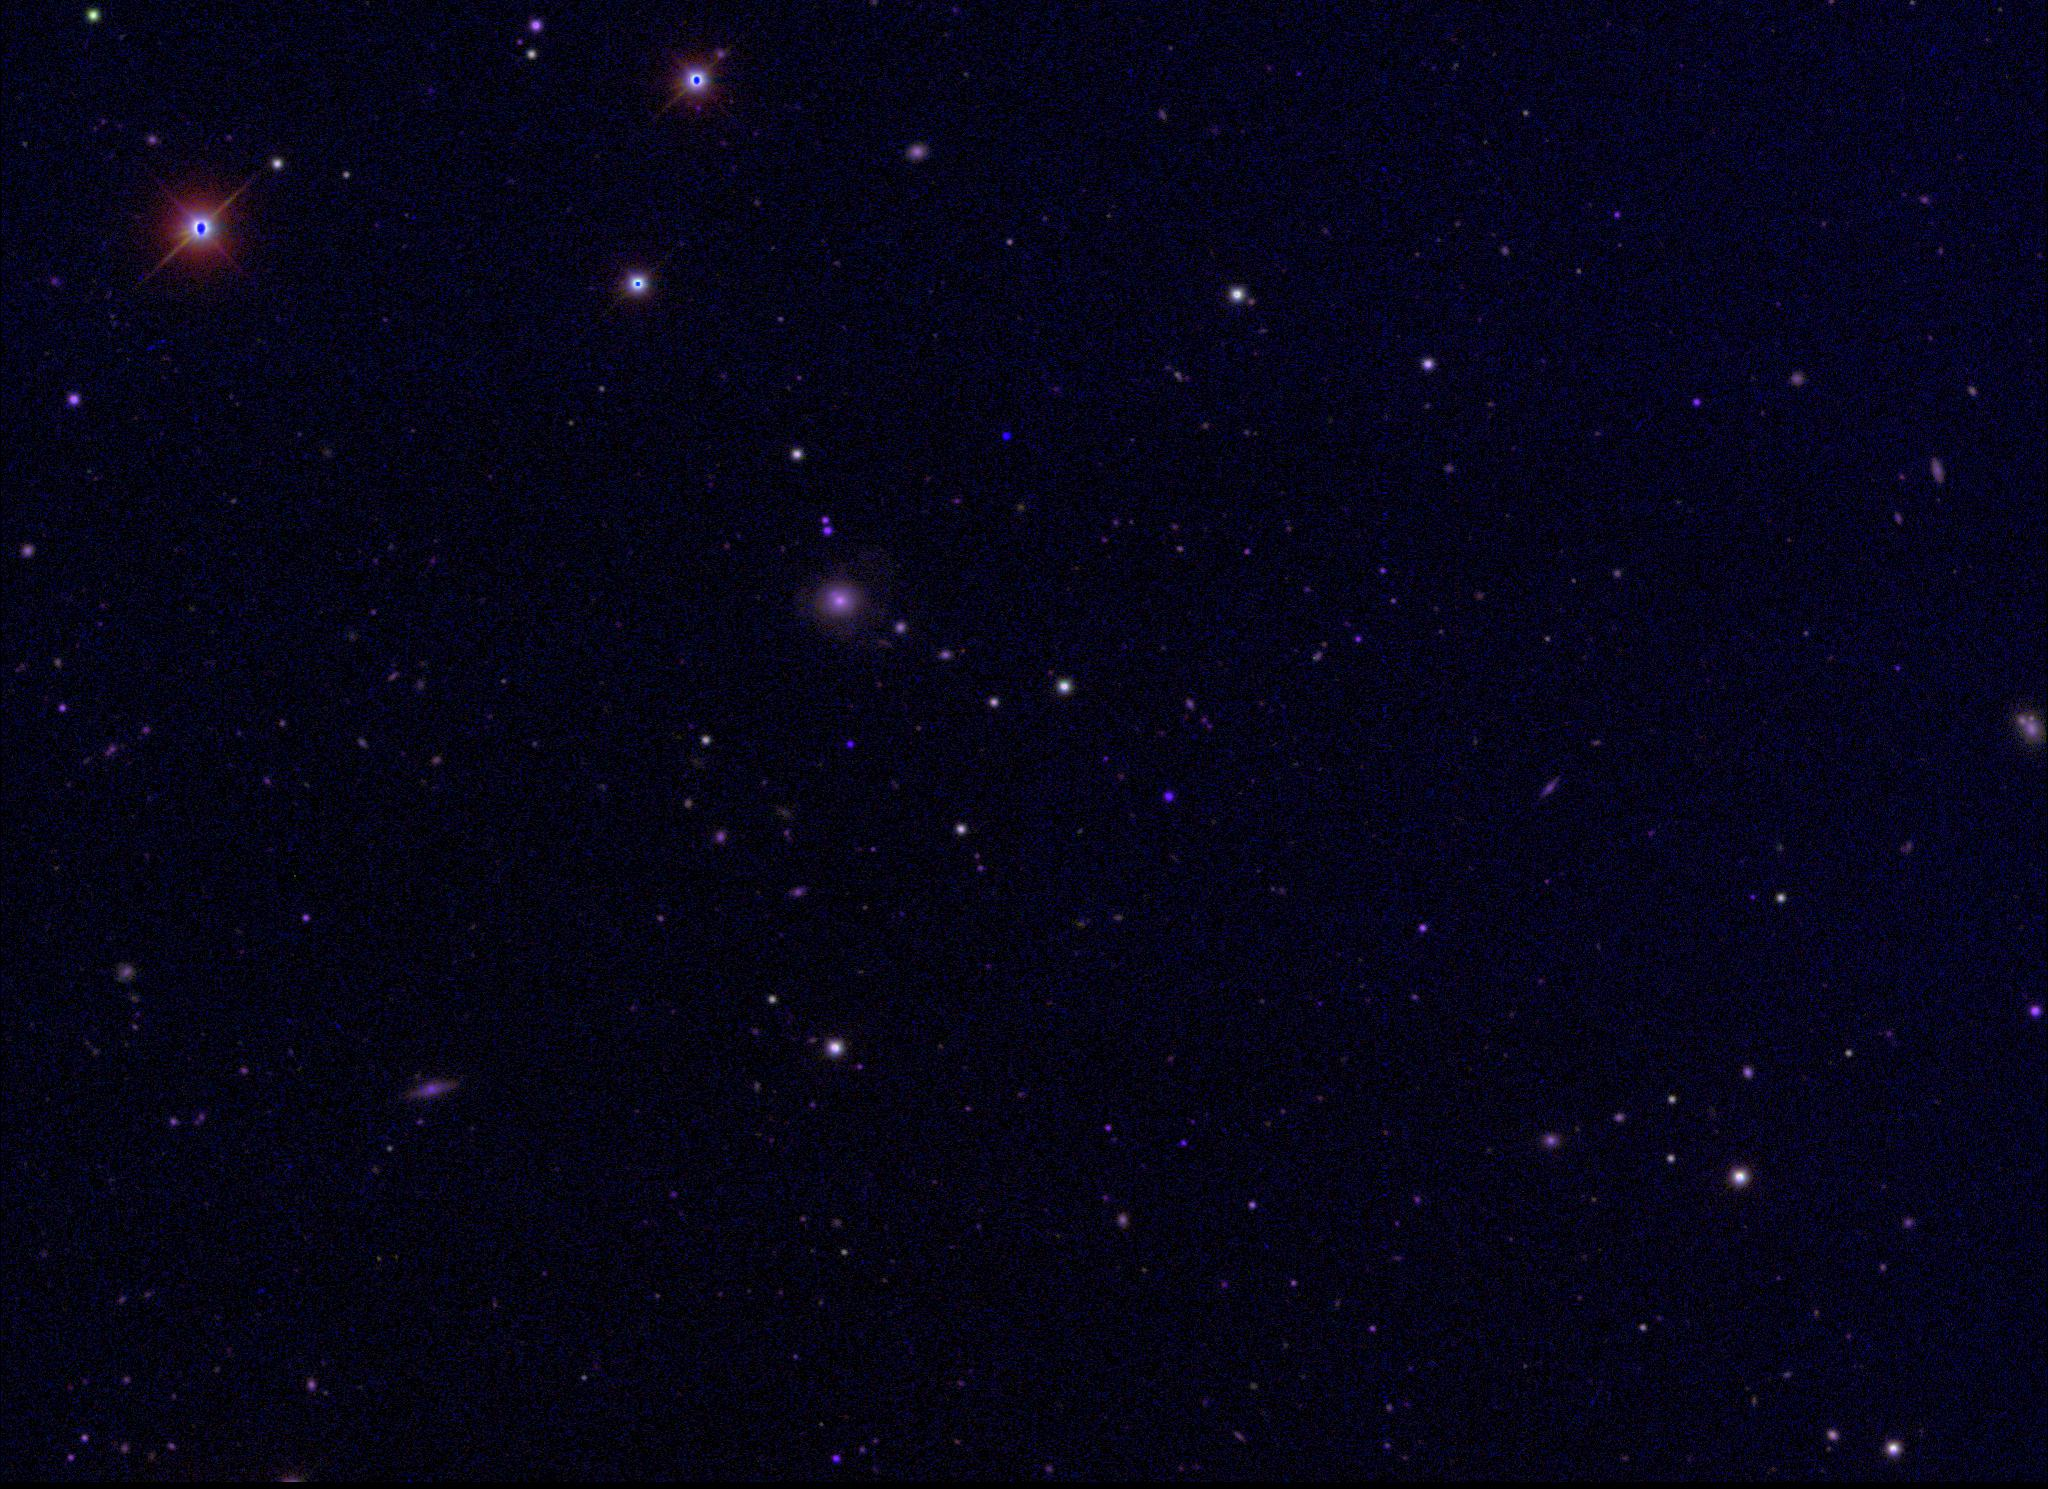L: (999, 430, 1011, 444)
